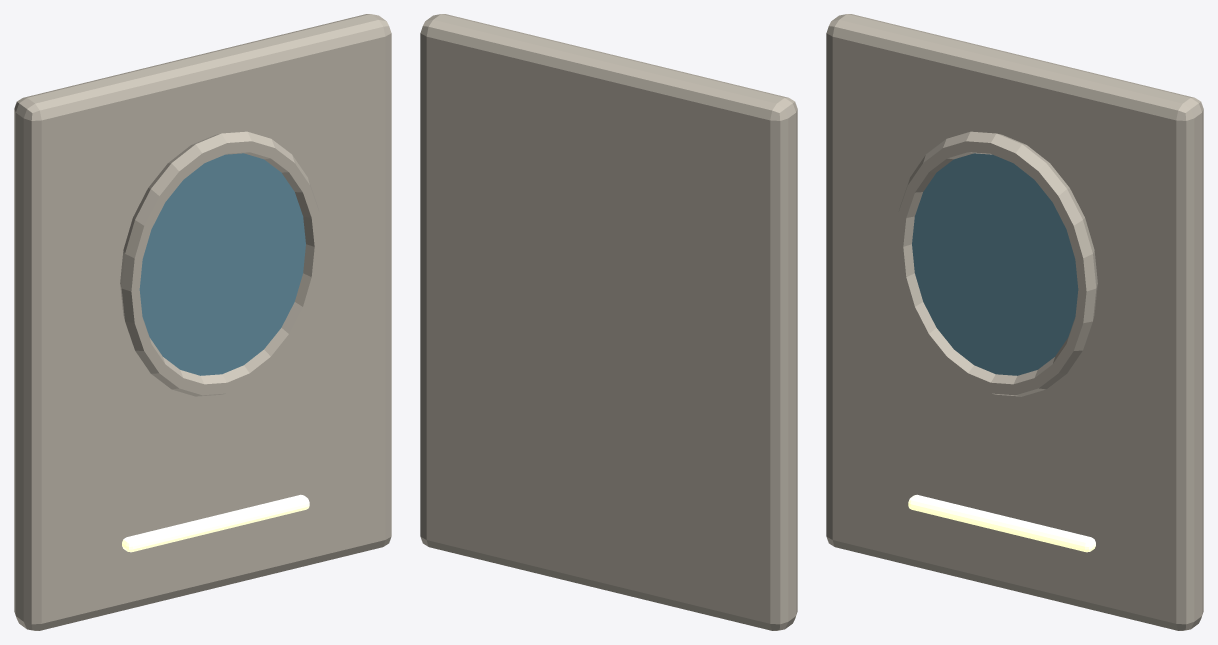
The model's file is cafe_fin.glb.
3 views of the same model, side by side, from view 1: azimuth 30°, elevation 25°; view 2: azimuth 150°, elevation 25°; view 3: azimuth 330°, elevation 25° (orthographic).
Visible parts, largest first — view 1: Cube.001; view 2: Cube.001; view 3: Cube.001.
Boxes of the visible parts, x1,y1,x2,y2 form: Cube.001: [14, 14, 391, 630]; Cube.001: [420, 14, 797, 630]; Cube.001: [826, 14, 1203, 630].
Size of the model in its own units: 1.6 by 2.2 by 0.2629.
